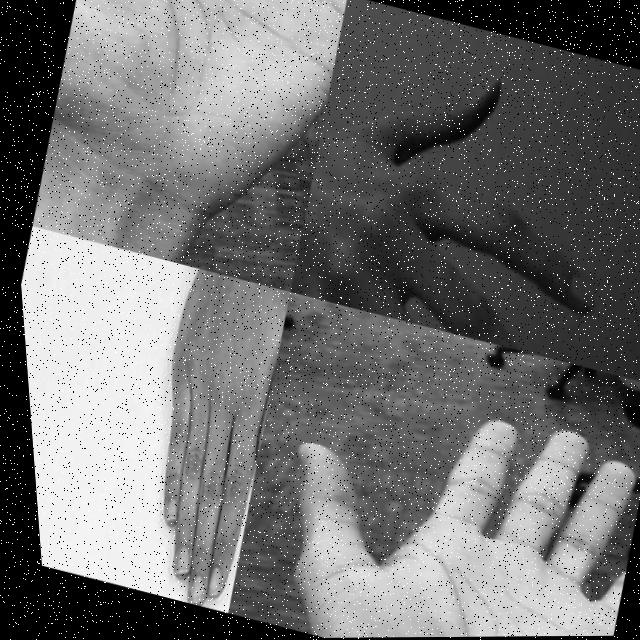hand: (269, 30, 640, 368), (236, 358, 640, 639), (28, 0, 361, 241), (97, 264, 303, 614)
